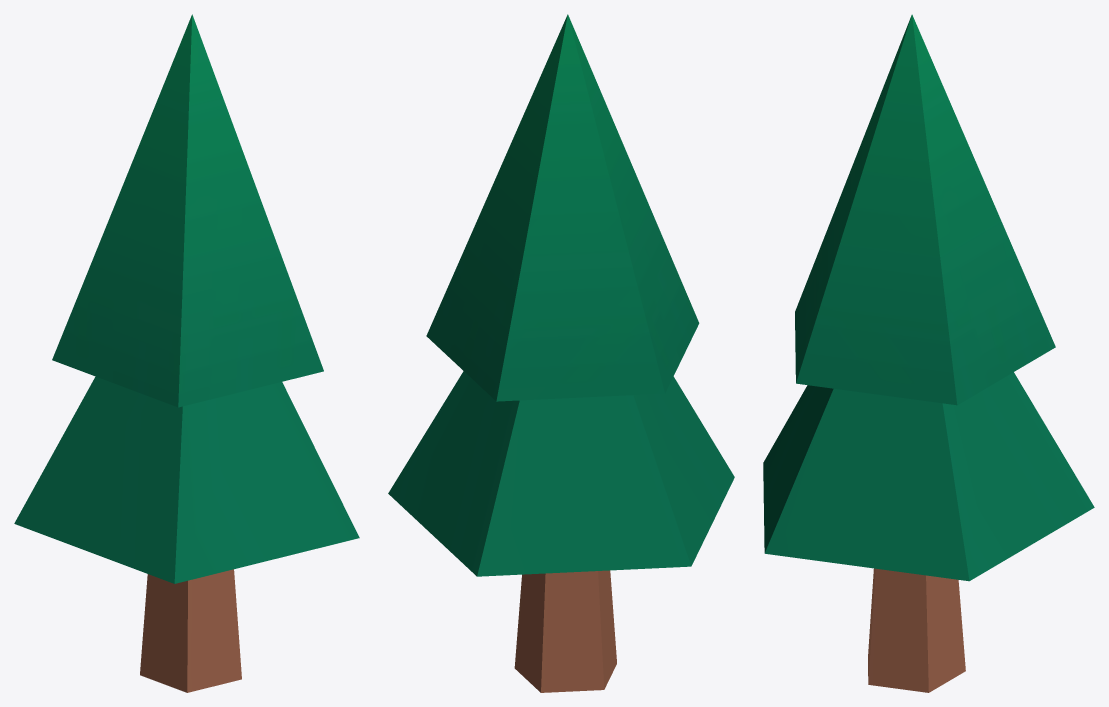
File: tree-a.glb
The picture shows the model from 3 angles, left to right: view 1: azimuth 30°, elevation 25°; view 2: azimuth 150°, elevation 25°; view 3: azimuth 270°, elevation 25°; orthographic projection.
Visible parts, largest first — view 1: tree_single_A; view 2: tree_single_A; view 3: tree_single_A.
Boxes of the visible parts, x1,y1,x2,y2 form: tree_single_A: (14,14,359,692); tree_single_A: (388,14,734,692); tree_single_A: (763,14,1094,692).
Size of the model in its own units: 0.574 by 1.2 by 0.547.
1 material, 1 textured.
